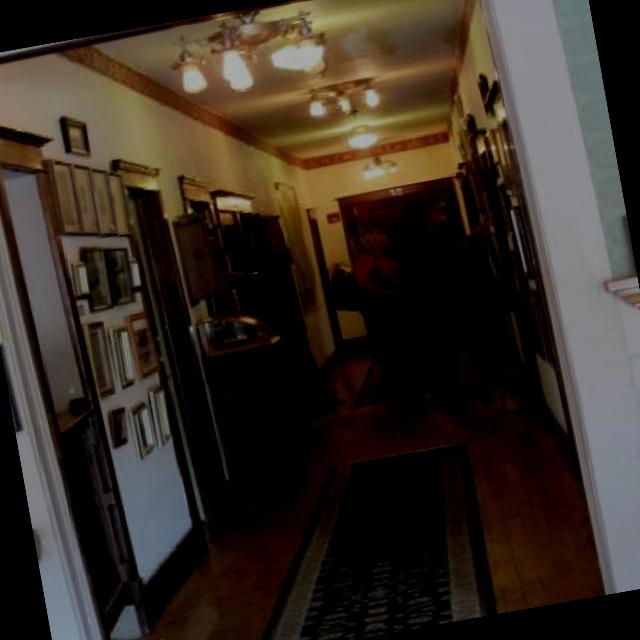Person: (359, 178, 507, 426), (346, 208, 424, 388)
